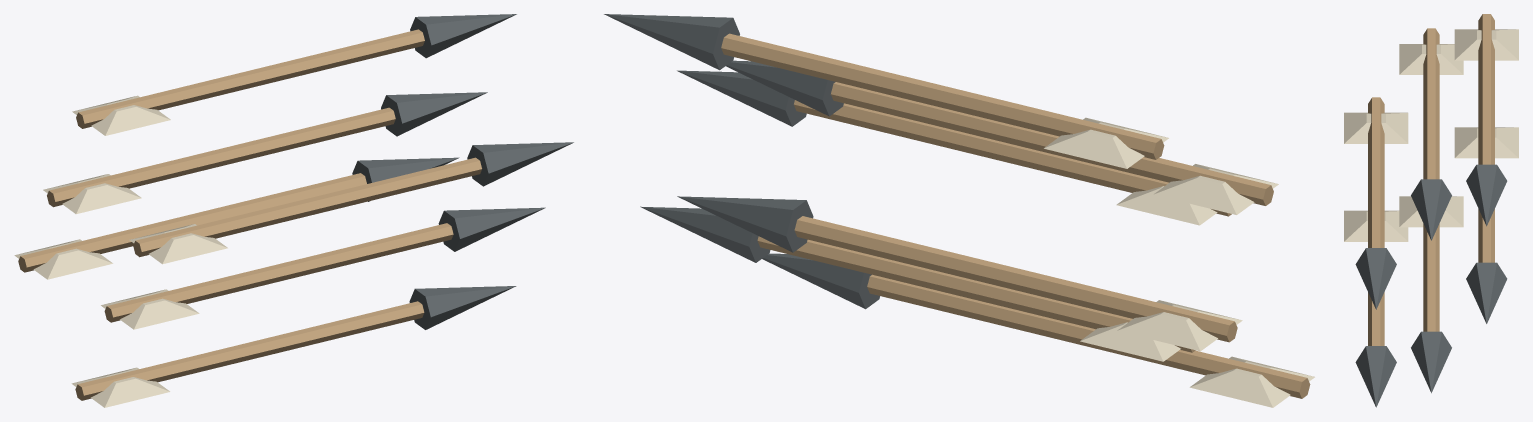
Rendered from item_054_arrow_l.glb.
The picture shows the model from 3 angles, left to right: view 1: azimuth 30°, elevation 25°; view 2: azimuth 150°, elevation 25°; view 3: azimuth 270°, elevation 25°; orthographic projection. The views are drawn at different scales.
Visible parts, largest first — view 1: item_054_arrow_l; view 2: item_054_arrow_l; view 3: item_054_arrow_l.
Boxes of the visible parts, x1,y1,x2,y2 form: item_054_arrow_l: (14, 14, 573, 407); item_054_arrow_l: (604, 14, 1314, 407); item_054_arrow_l: (1344, 14, 1518, 407).
Bounding box in the file's own units: 0.6 × 0.289 × 0.19.
